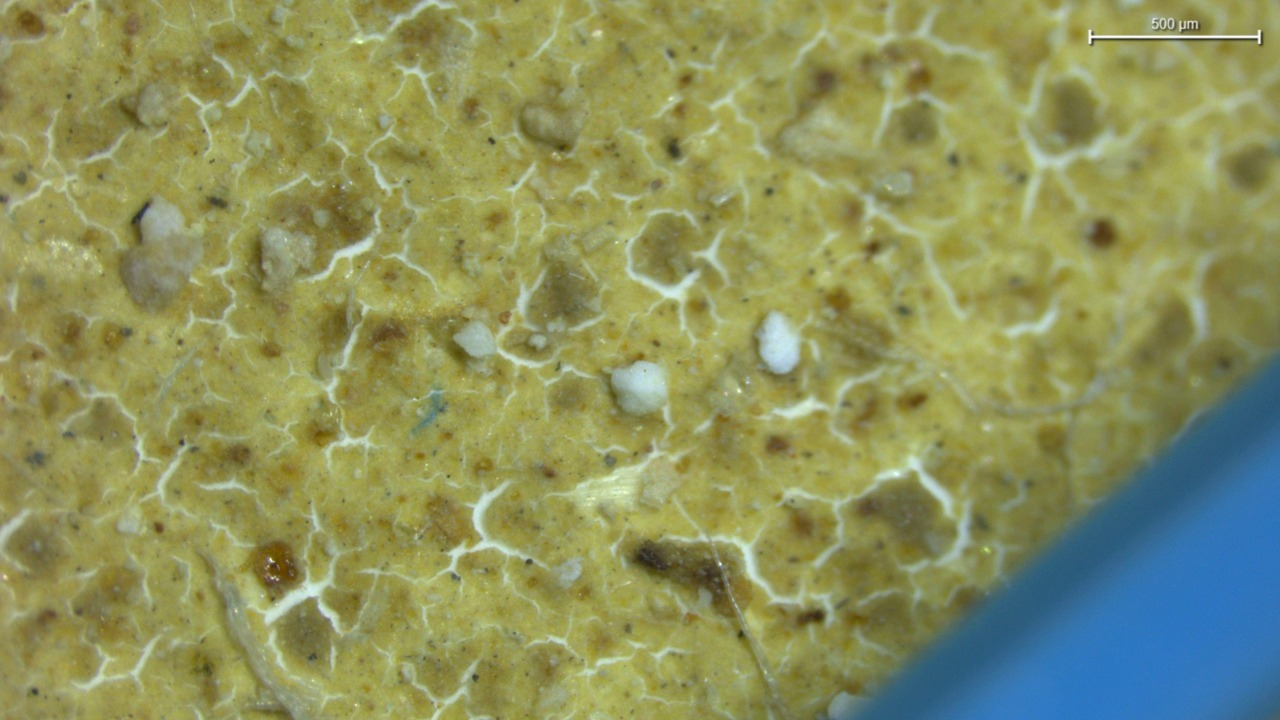microplastic_fragment: (260, 227, 315, 295), (610, 360, 668, 416), (756, 312, 800, 374)
